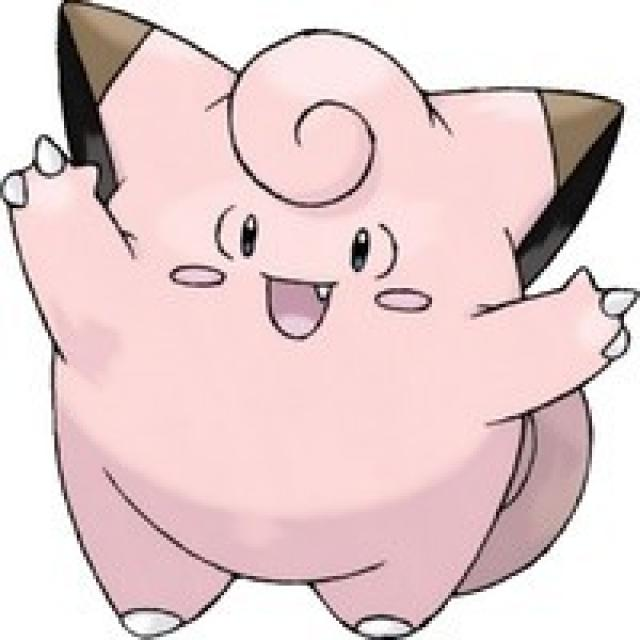Clefairy: (4, 3, 633, 640)
